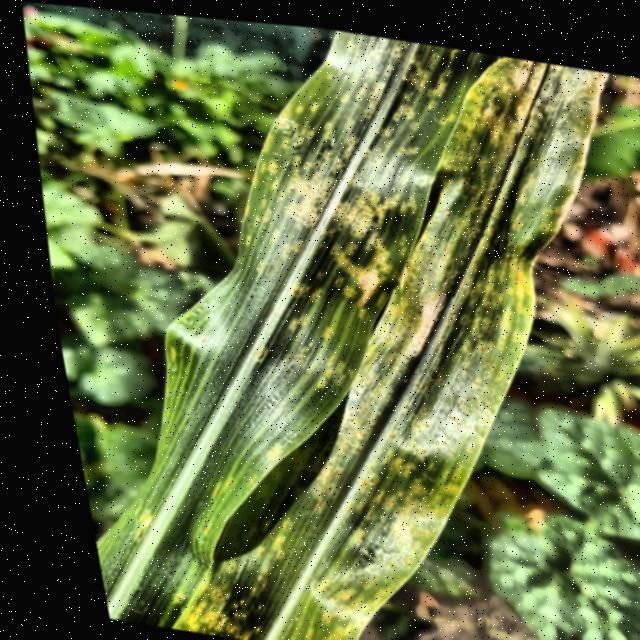common_rust: (151, 49, 609, 640)
